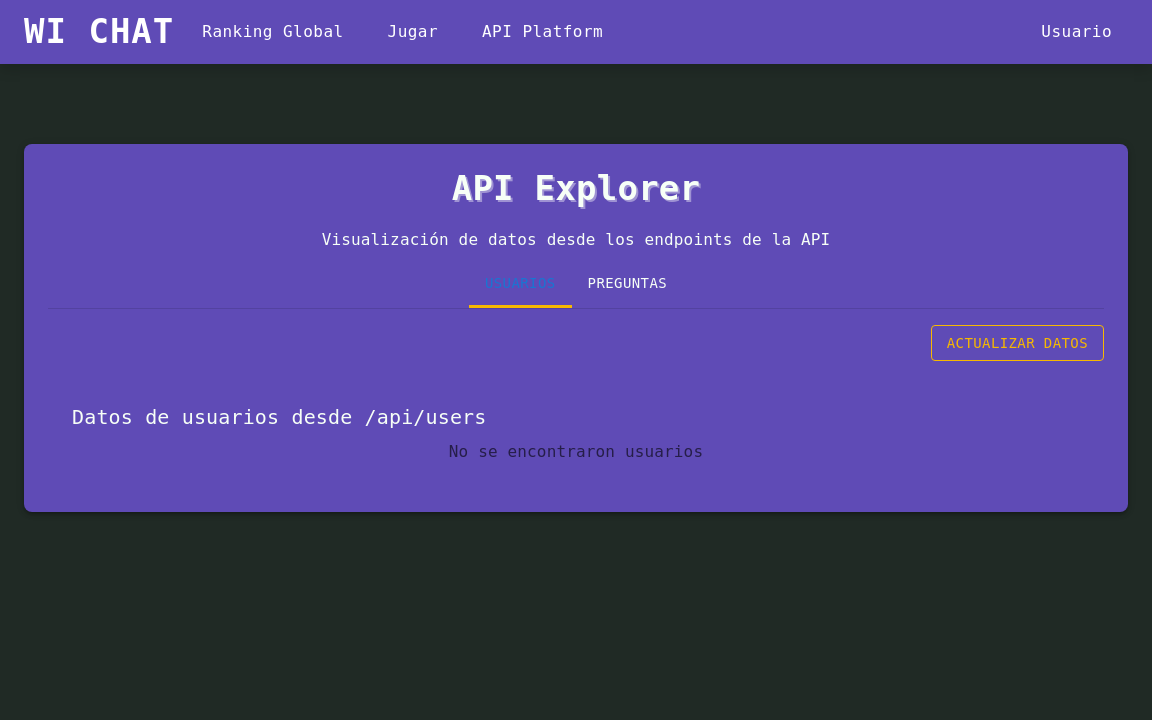
Api Component › should display an error message if fetching questions fails
Click the tab "Preguntas" at (627, 284), box [572,260,683,308]
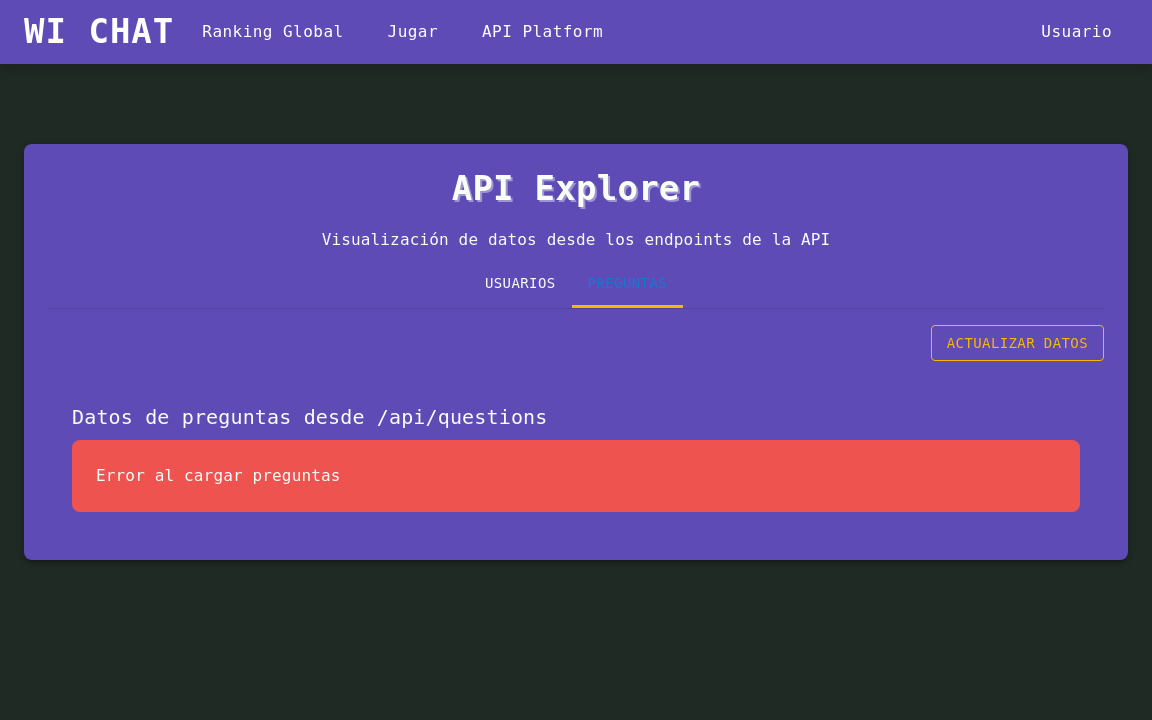
Check: the text "Error al cargar preguntas" is shown, box [96,466,341,485]
